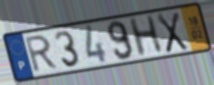3: (54, 30, 82, 68)
4: (84, 24, 109, 66)
9: (105, 19, 135, 62)
H: (127, 13, 166, 59)
R: (24, 33, 60, 75)
X: (155, 11, 189, 55)
